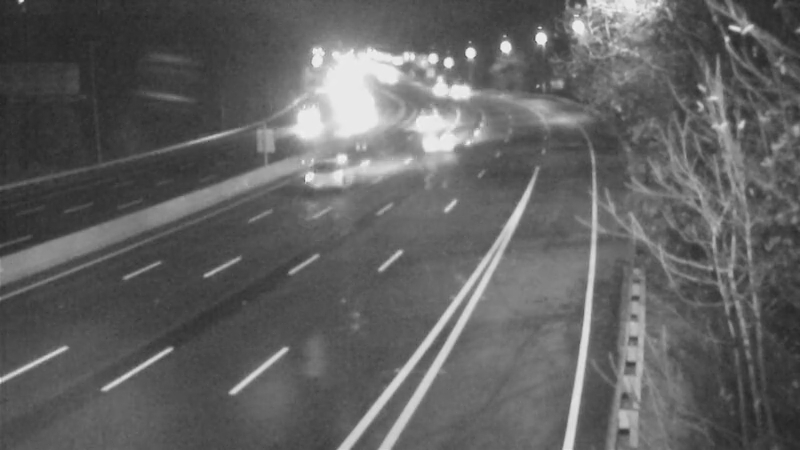vehicle: (293, 138, 373, 218), (415, 61, 465, 111), (436, 66, 486, 116), (397, 91, 447, 141), (408, 115, 458, 165), (288, 91, 338, 141)
